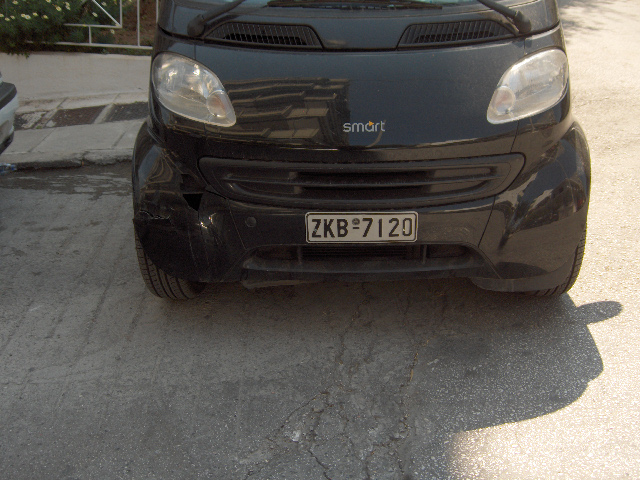licenseplate: (304, 210, 417, 244)
